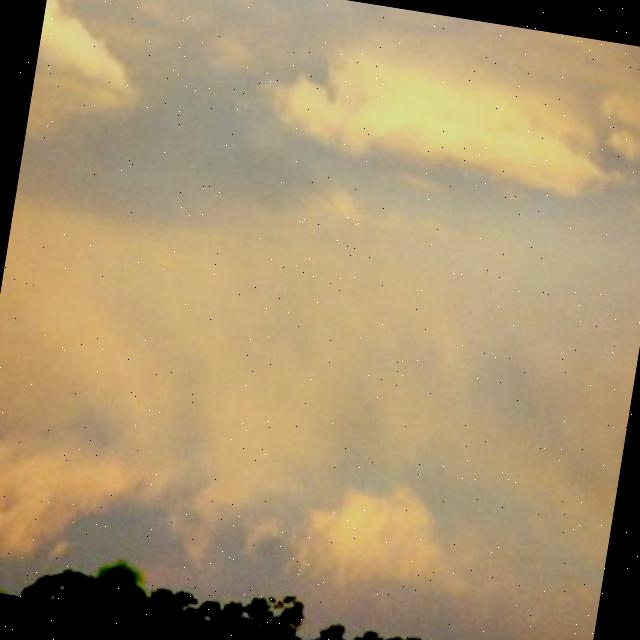Ns: (1, 1, 640, 574)
